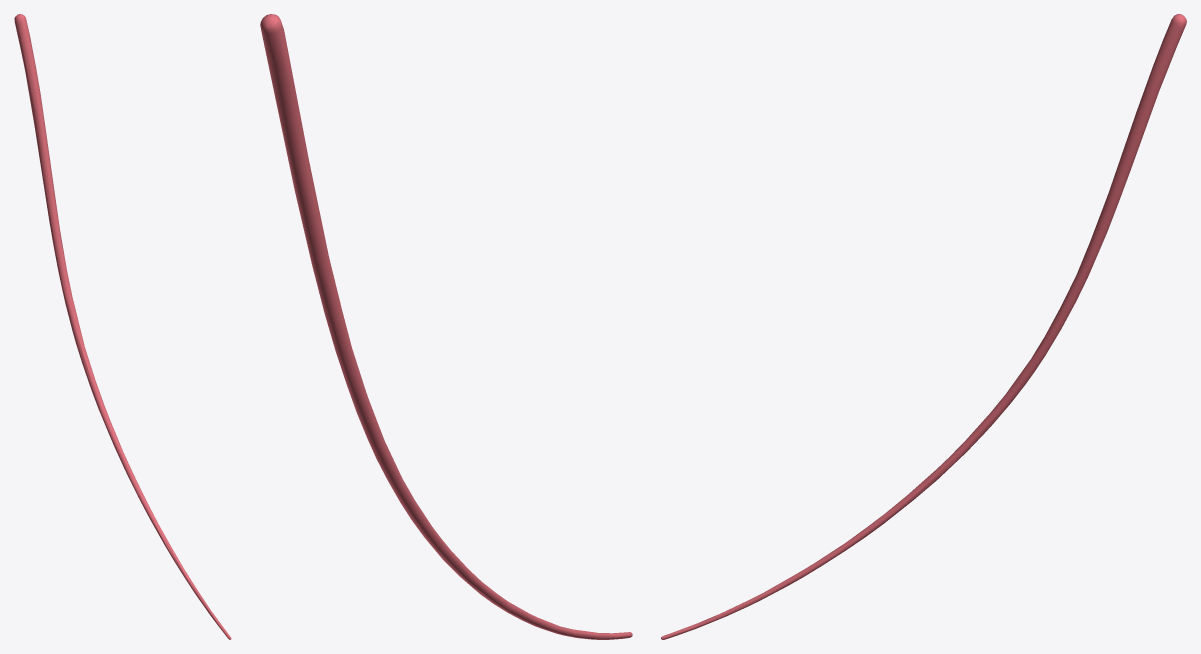
Rendered from fma85115_fj2366.glb.
The picture shows the model from 3 angles, left to right: view 1: azimuth 30°, elevation 25°; view 2: azimuth 150°, elevation 25°; view 3: azimuth 270°, elevation 25°; orthographic projection. The views are drawn at different scales.
Parts seen in each view (by area): view 1: FMA85115_FJ2366; view 2: FMA85115_FJ2366; view 3: FMA85115_FJ2366.
Part boxes in pixels (x1,y1,x2,y2): FMA85115_FJ2366: [14, 14, 231, 639]; FMA85115_FJ2366: [260, 14, 632, 639]; FMA85115_FJ2366: [661, 14, 1186, 639].
Size of the model in its own units: 0.00219 by 0.0642 by 0.0494.
